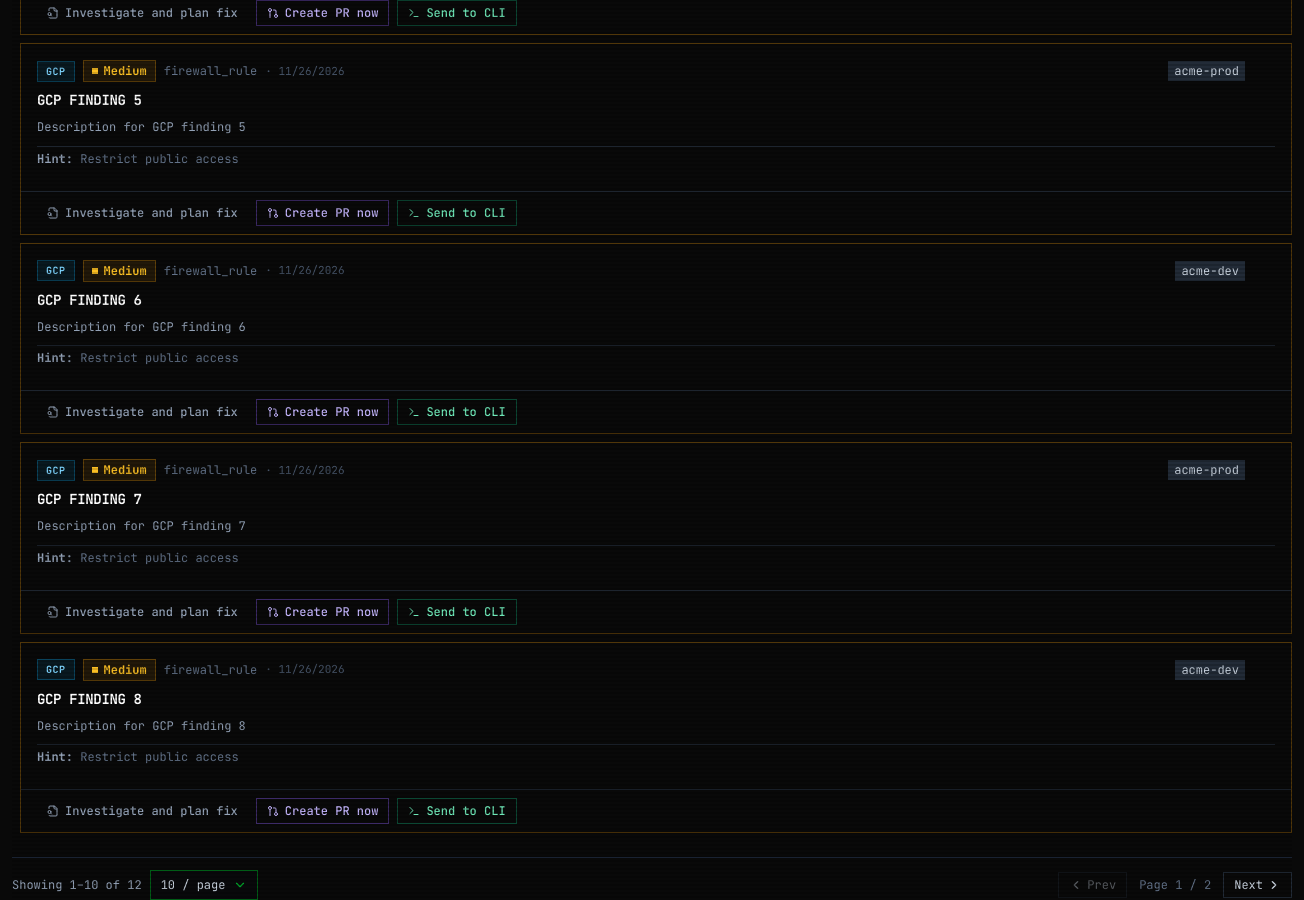
FindingsPage › paginates findings and supports page size changes
(page scrolled)
expect the text "Showing 1–10 of 12" is shown: met, box x1=12 y1=877 x2=142 y2=893
expect the text "Page 1 / 2" is shown: met, box x1=1139 y1=877 x2=1211 y2=893
Click the button "Next" at [1258, 885], box x1=1223 y1=872 x2=1292 y2=898
(page scrolled)
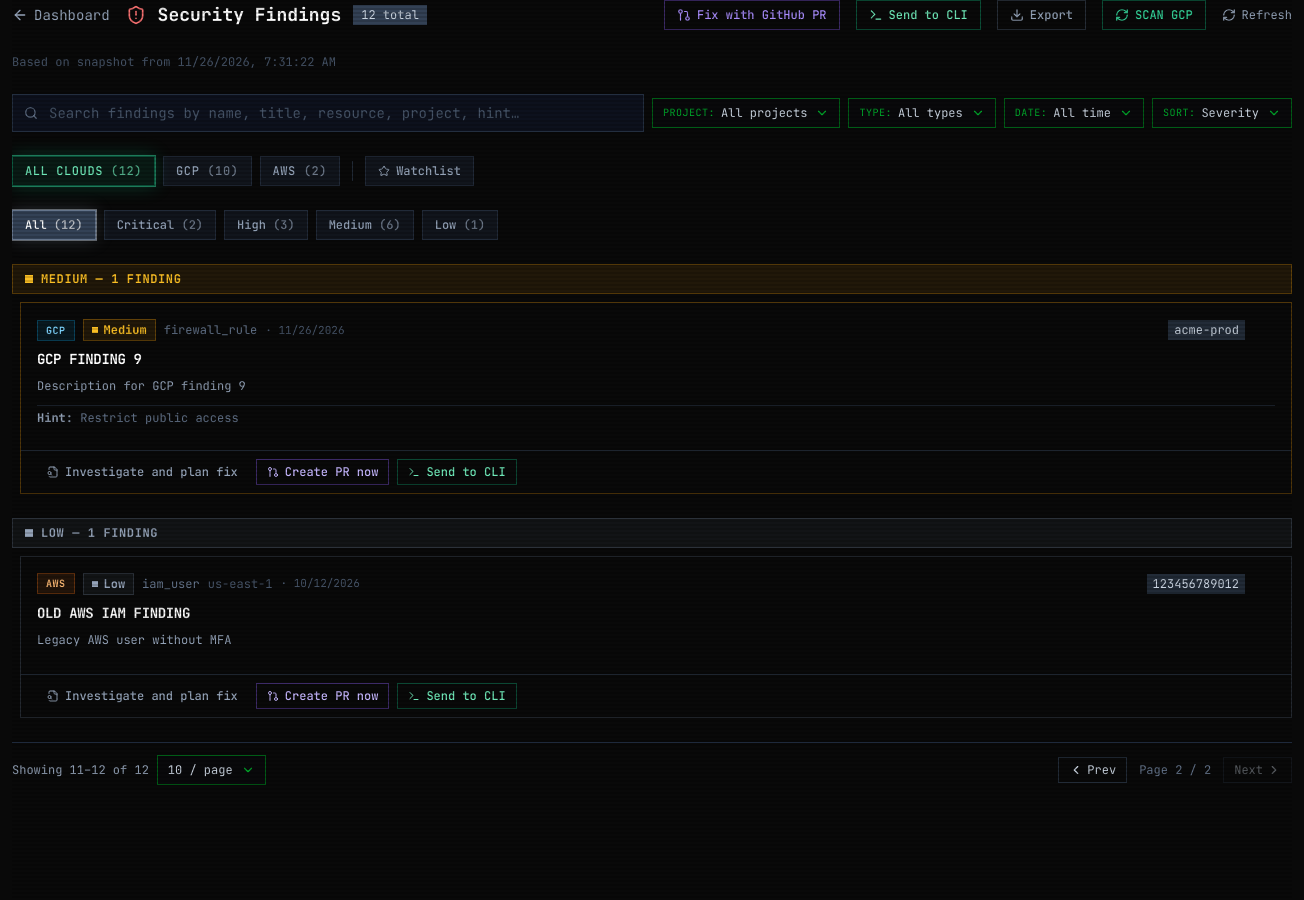
expect the text "Showing 11–12 of 12" is shown: met, box x1=12 y1=762 x2=149 y2=778
expect the text "Old AWS IAM Finding" is shown: met, box x1=37 y1=604 x2=190 y2=622
Click the button with aria-label "Items per page" at [211, 770], box x1=157 y1=755 x2=266 y2=785
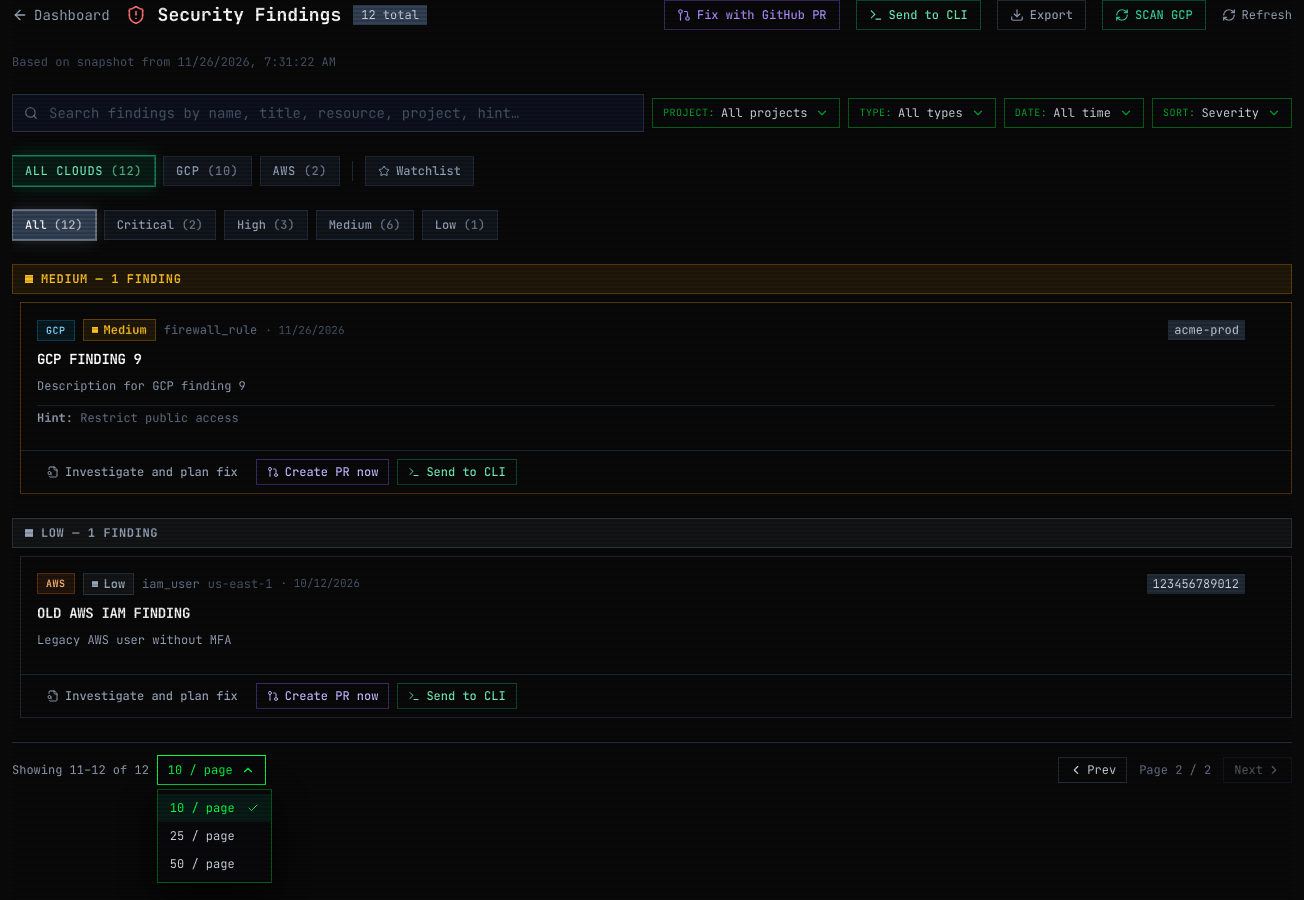
Click the option "25 / page" at [214, 836], box x1=158 y1=822 x2=271 y2=850
(page scrolled)
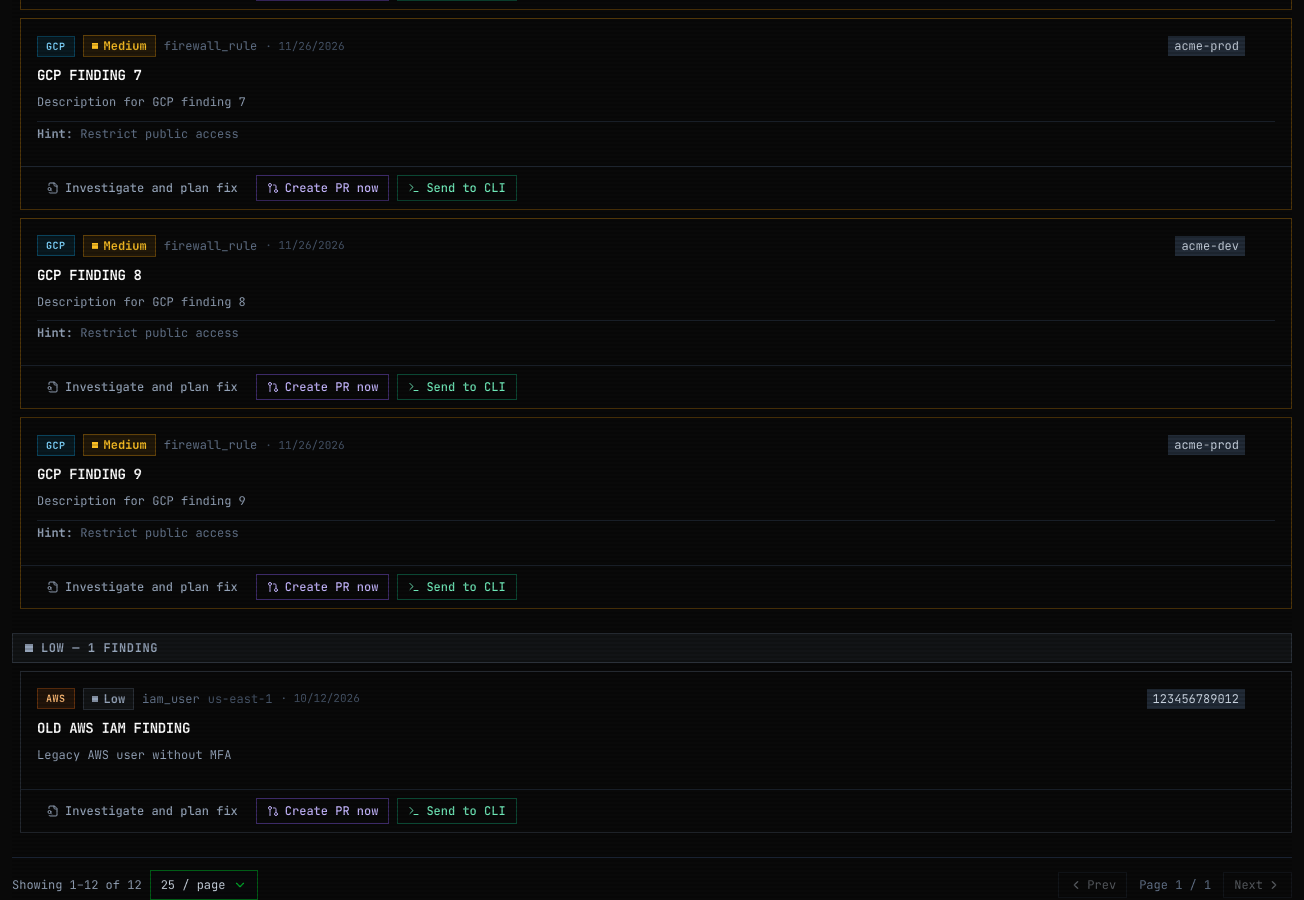
expect the text "Old AWS IAM Finding" is shown: met, box x1=37 y1=718 x2=190 y2=736
expect the text "Showing 1–12 of 12" is shown: met, box x1=12 y1=877 x2=142 y2=893
